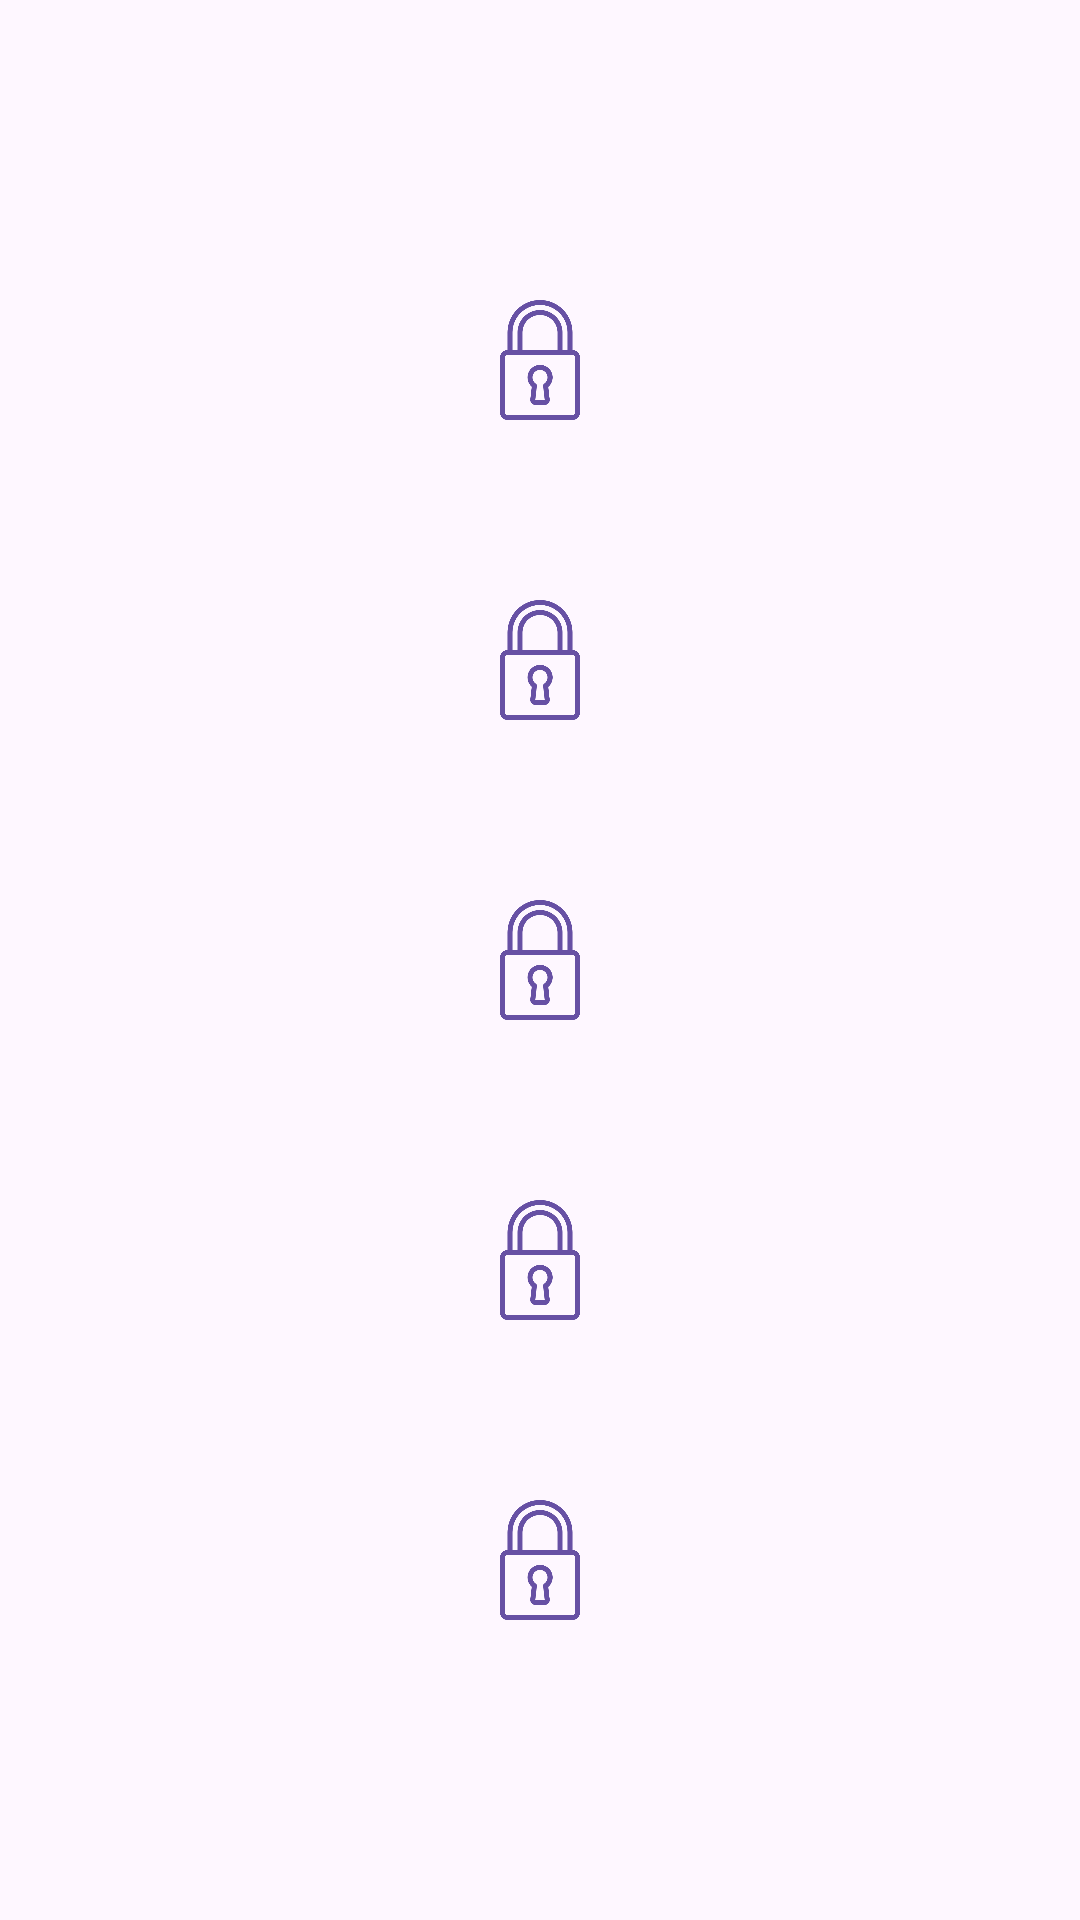

Screen size 1080px×1920px. Icon name, then its box in pixels as (x1,y1,x2,y2):
closed lock: (500,300,580,420), (500,600,580,720), (500,900,580,1020), (500,1200,580,1320), (500,1500,580,1620)
